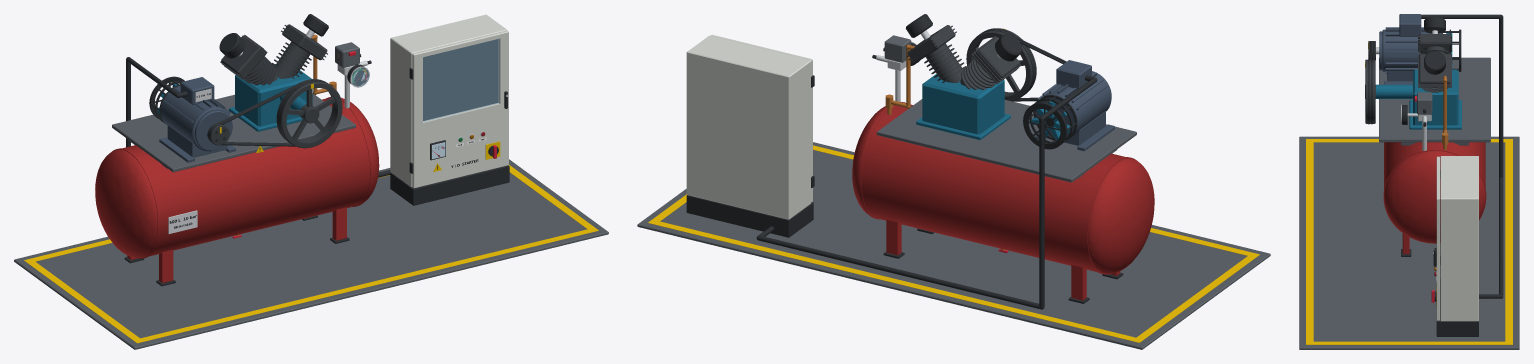
Rendered from stardelta.glb.
3 views of the same model, side by side, from view 1: azimuth 30°, elevation 25°; view 2: azimuth 150°, elevation 25°; view 3: azimuth 270°, elevation 25° (orthographic). The views are drawn at different scales.
Parts seen in each view (by area): view 1: static_base, static_tank, static_cabinet, static_black, glass_cabinet, static_warn, static_motor, static_iron, flywheel, static_accent, static_inox, static_ctr (+2 smaller); view 2: static_base, static_tank, static_cabinet, static_black, static_warn, static_accent, static_motor, static_iron, flywheel, static_ctr, static_copper; view 3: static_base, static_cabinet, static_tank, static_warn, static_black, static_motor, static_accent, static_iron, flywheel, static_nickel, static_ctr, static_copper.
Part boxes in pixels (box(x1,y1,x2,y2)): static_base: box(14, 93, 608, 349); static_tank: box(95, 97, 379, 283); static_cabinet: box(390, 14, 508, 188); static_black: box(124, 14, 509, 286); glass_cabinet: box(423, 39, 499, 121); static_warn: box(24, 141, 598, 343); static_motor: box(159, 77, 235, 162); static_iron: box(220, 24, 327, 85); flywheel: box(276, 79, 342, 148); static_accent: box(229, 64, 312, 131); static_inox: box(168, 60, 367, 233); static_ctr: box(335, 42, 359, 67); static_base: box(637, 99, 1270, 349); static_tank: box(852, 102, 1154, 300); static_cabinet: box(686, 34, 812, 219); static_black: box(686, 14, 1123, 309); static_warn: box(648, 145, 1259, 342); static_accent: box(916, 74, 1010, 140); static_motor: box(1034, 60, 1114, 151); static_iron: box(906, 25, 1021, 89); flywheel: box(966, 28, 1036, 101); static_ctr: box(884, 35, 911, 62); static_copper: box(885, 44, 1005, 250); static_base: box(1299, 57, 1519, 349); static_cabinet: box(1436, 156, 1478, 321); static_tank: box(1383, 142, 1486, 254); static_warn: box(1306, 139, 1512, 344); static_black: box(1369, 14, 1503, 336); static_motor: box(1379, 14, 1441, 84); static_accent: box(1376, 69, 1461, 129); static_iron: box(1418, 34, 1451, 92); flywheel: box(1365, 59, 1375, 124); static_nickel: box(1376, 30, 1437, 276); static_ctr: box(1417, 92, 1432, 114); static_copper: box(1442, 75, 1448, 149).
Bounding box in the file's own units: 2.95 × 1.3 × 1.3.
